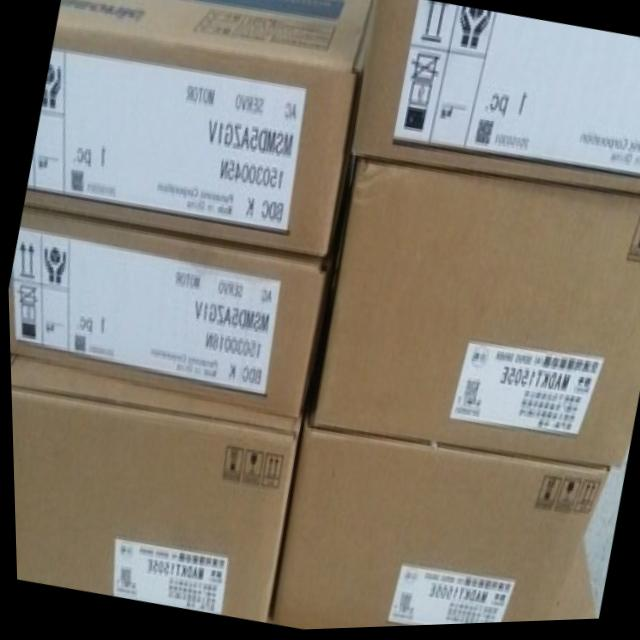box: (305, 162, 640, 474), (24, 0, 377, 264), (8, 355, 299, 622), (266, 426, 606, 631), (7, 208, 329, 418), (347, 0, 640, 201), (543, 536, 591, 625)
